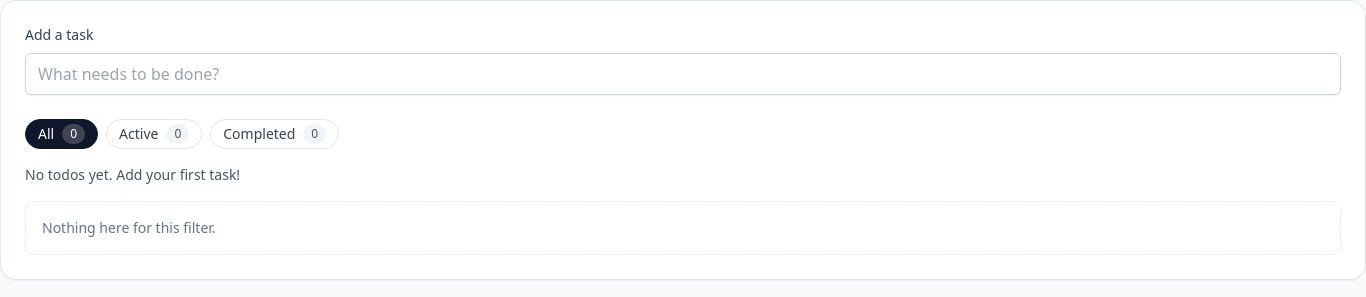
TodoApp integration › deletes a todo
Type "Delete me" into the field named "add a todo" at (683, 74), box [25, 53, 1341, 95]
Then press Enter
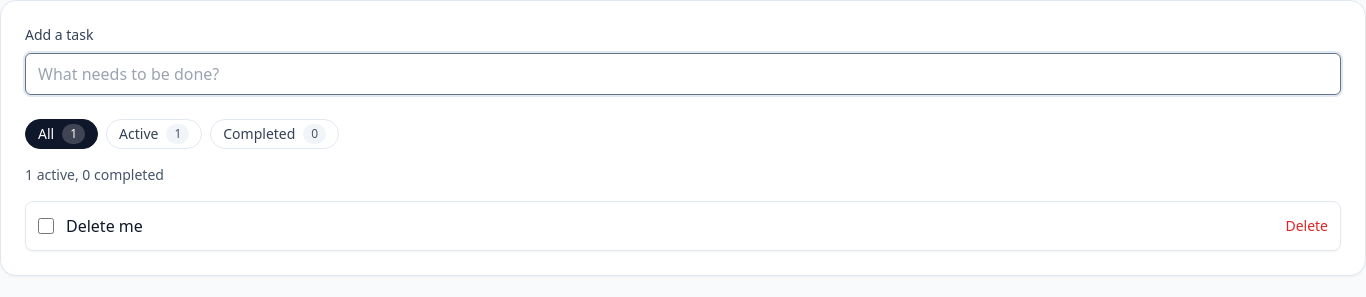
Click the button with aria-label "delete delete me" at (1307, 226), box [1285, 216, 1328, 236]
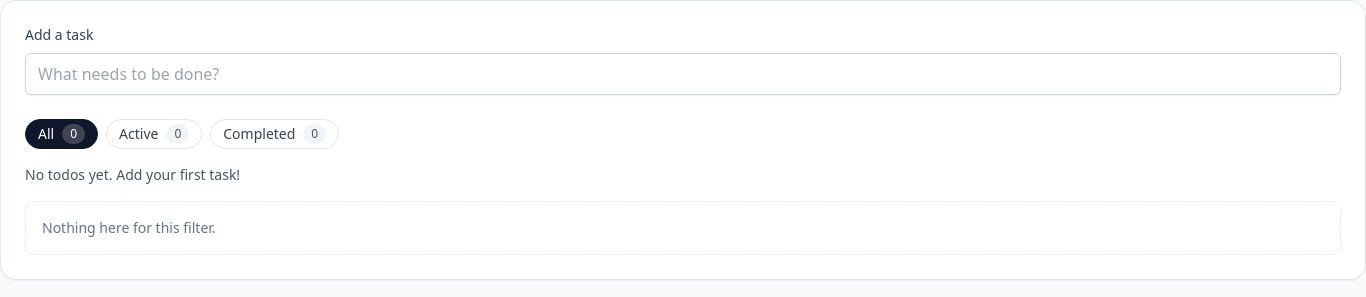
Now the text "Delete me" is gone
